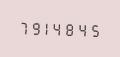eight: (65, 20, 76, 37)
five: (89, 21, 100, 38)
four: (53, 19, 64, 37), (77, 20, 88, 37)
nine: (29, 18, 40, 36)
one: (41, 19, 52, 36)
seven: (17, 18, 28, 35)
